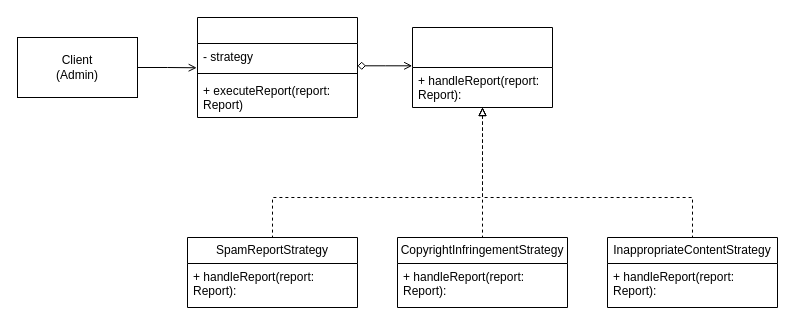
Some shapes in this 795 by 328 pixel diagram are drawn without their labels. Here are the shapes that lost their labels. From the top down, the box of each, then its label:
(196, 16, 358, 118): ReportContext
(412, 26, 552, 108): <<Interface>> ReportStrategy
